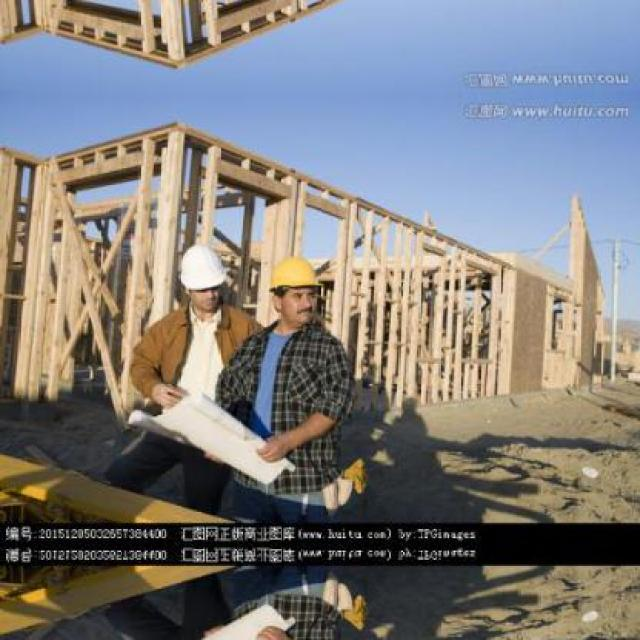helmet: (258, 250, 327, 325), (173, 236, 230, 311)
